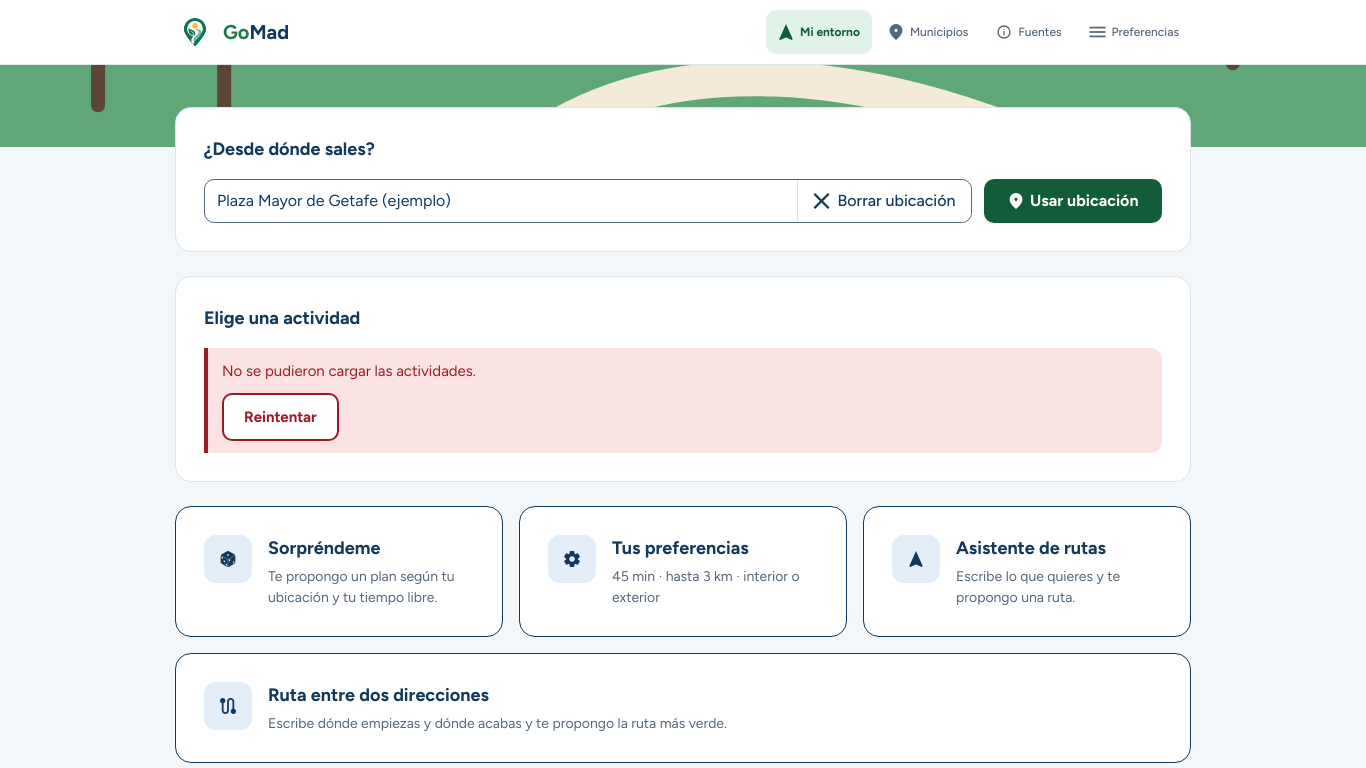
Test: Inicio › muestra error con Reintentar si fallan las actividades
(page scrolled)
Expected: the text "No se pudieron cargar las actividades." is shown, x1=222 y1=362 x2=476 y2=380
Step 1. Click the button "Reintentar" → (280, 417), box x1=222 y1=393 x2=339 y2=441
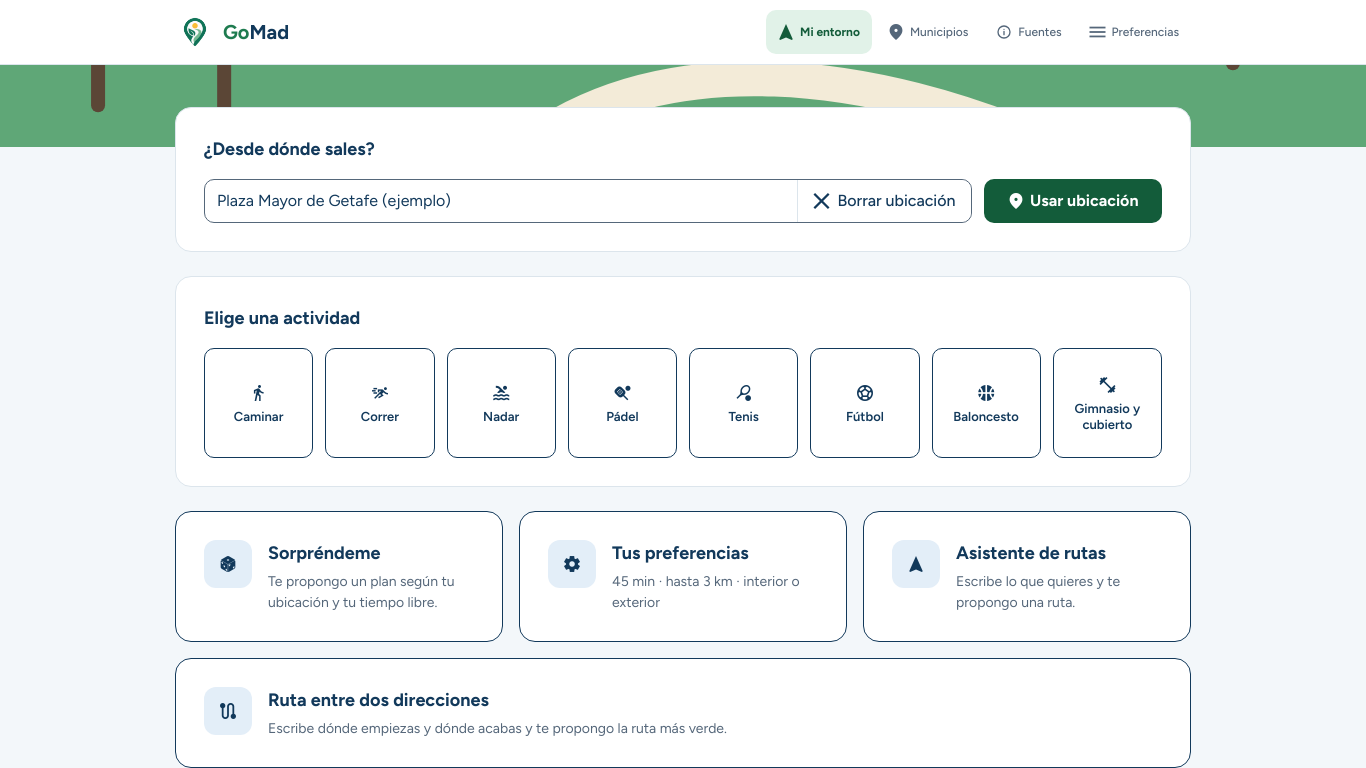
Expected: the button "Caminar" is shown, x1=204 y1=348 x2=313 y2=458
